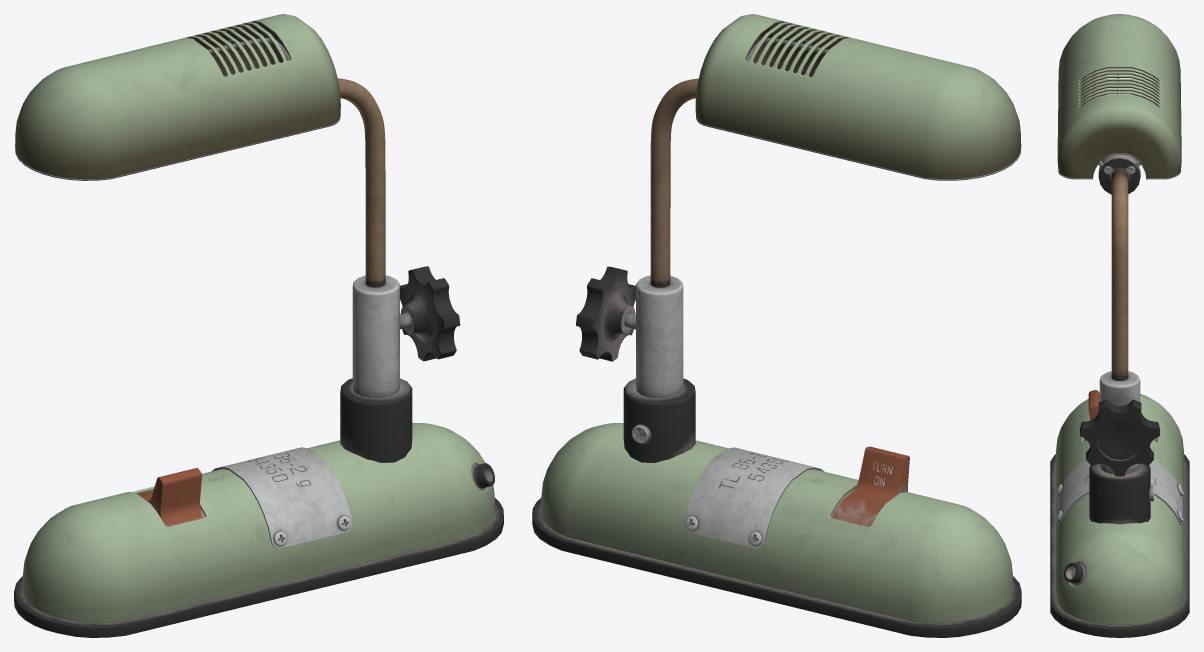
Rendered from retro_table_lamp.glb.
3 renders of one model, left to right at view 1: azimuth 30°, elevation 25°; view 2: azimuth 150°, elevation 25°; view 3: azimuth 270°, elevation 25°, orthographic. The views are drawn at different scales.
Visible parts, largest first — view 1: Foundation, Head, Column, Plate, Column2, Screw, Switch; view 2: Foundation, Head, Column, Plate, Column2, Screw, Switch; view 3: Foundation, Head, Column, Screw, Column2, Plate, Socket, Wire, Switch, Screw2.
Part boxes in pixels (box(x1,y1,x2,y2)): Foundation: box(14, 423, 503, 637); Head: box(15, 14, 340, 180); Column: box(340, 275, 412, 462); Plate: box(211, 447, 352, 548); Column2: box(337, 78, 385, 287); Screw: box(400, 266, 460, 361); Switch: box(137, 468, 205, 526); Foundation: box(532, 423, 1021, 637); Head: box(695, 14, 1021, 180); Column: box(623, 275, 695, 462); Plate: box(683, 447, 824, 548); Column2: box(650, 78, 698, 287); Screw: box(576, 266, 635, 361); Switch: box(830, 446, 909, 526); Foundation: box(1050, 394, 1189, 637); Head: box(1057, 14, 1181, 179); Column: box(1089, 371, 1150, 524); Screw: box(1080, 399, 1159, 476); Column2: box(1111, 168, 1128, 380); Plate: box(1057, 460, 1182, 524); Socket: box(1098, 154, 1140, 194); Wire: box(1063, 562, 1085, 585); Switch: box(1083, 390, 1156, 441); Screw2: box(1056, 484, 1183, 522).
Bounding box in the file's own units: 4.33 × 4.72 × 1.32.
5 materials, 5 textured.
